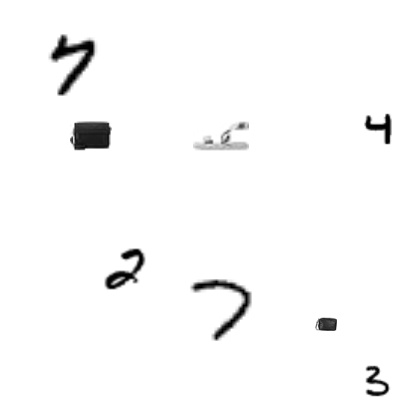2: (97, 241, 153, 297)
3: (354, 360, 396, 402)
4: (360, 105, 402, 147)
7: (31, 17, 115, 101), (182, 259, 266, 343)
Bag: (70, 114, 112, 156), (315, 313, 337, 335)
Sandal: (193, 108, 249, 164)
